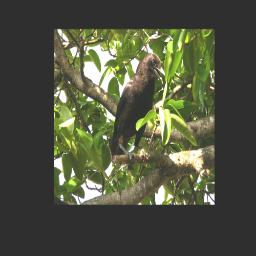Crow: (109, 50, 167, 165)
